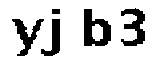3: (120, 4, 151, 50)
b: (81, 6, 113, 48)
j: (40, 6, 65, 60)
y: (8, 13, 42, 60)
